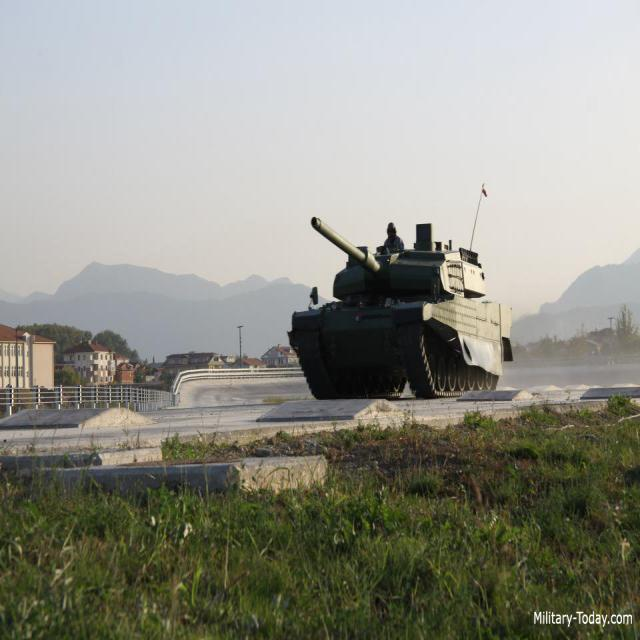Tank: (274, 185, 514, 419)
